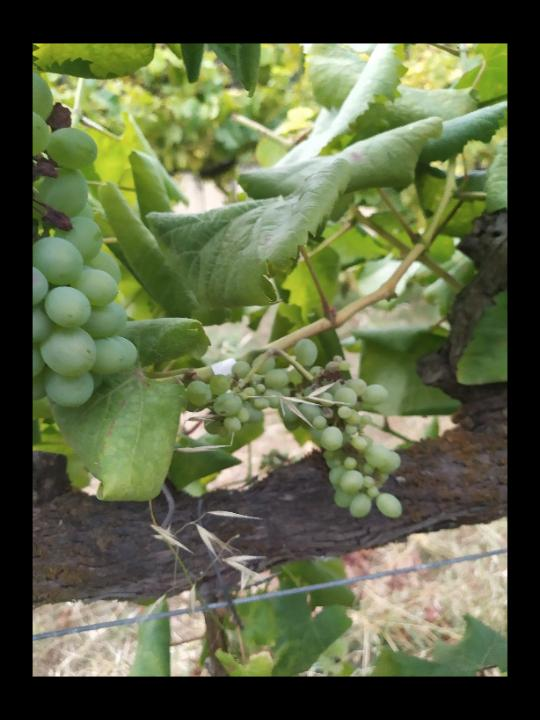grape: (186, 337, 409, 524)
